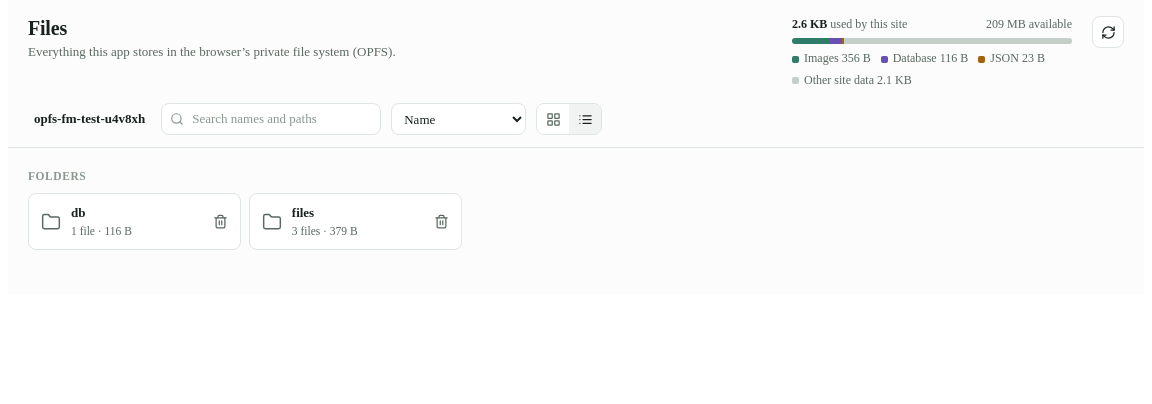
Test case: OPFSFilesManager › groups resized copies and shows thumbnails, including for extensionless images
The width and height of the screenshot is (1152, 404).
Click the button "files 3 files · 379 B". click: click(355, 222)
box: [249,193,462,250]
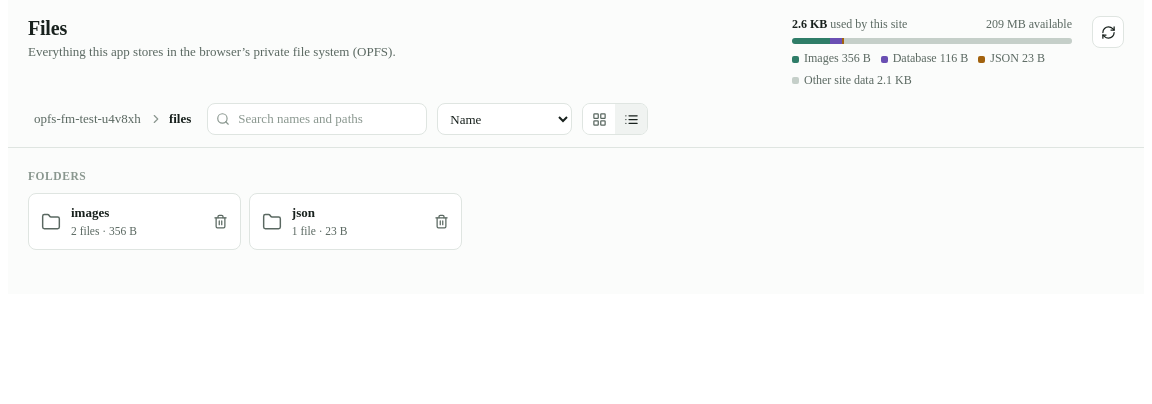
Click the button "images 2 files · 356 B". click: click(134, 222)
box: [28,193,241,250]
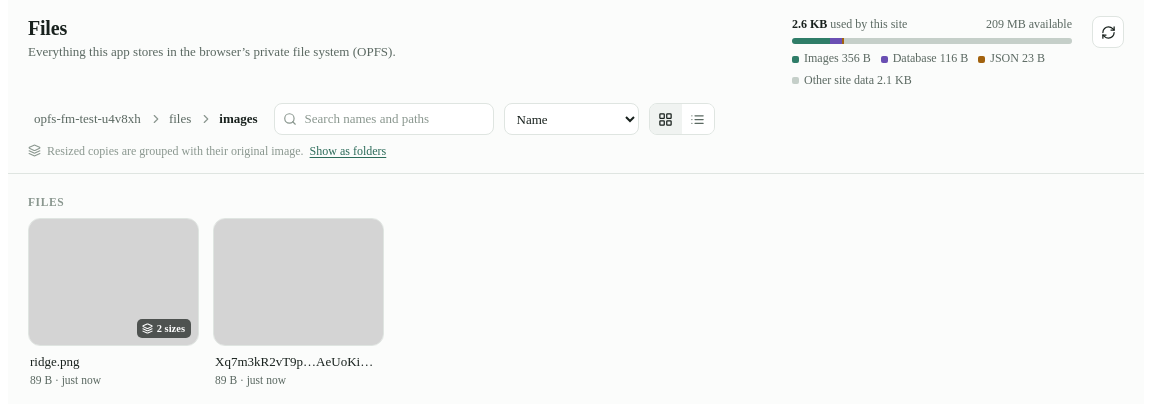
Now the text "2 sizes" is shown, box [137,319,191,338]
